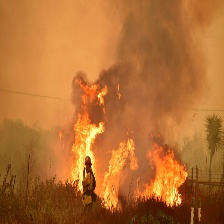fire: (65, 74, 105, 211), (138, 134, 188, 206), (103, 139, 138, 214)
smoke: (98, 5, 220, 115), (3, 2, 67, 165)
